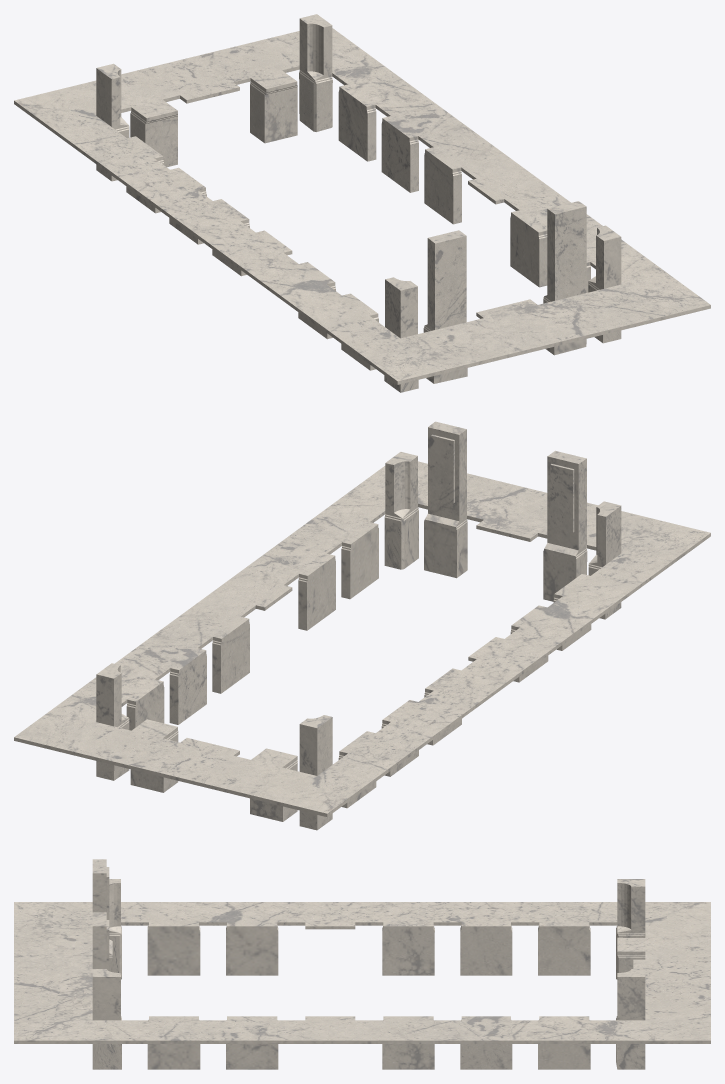
Rendered from floor3_fix_with_texture.fbx.
3 views of the same model, one above another, from view 1: azimuth 30°, elevation 25°; view 2: azimuth 150°, elevation 25°; view 3: azimuth 270°, elevation 25° (orthographic). The views are drawn at different scales.
Visible parts, largest first — view 1: floor2:main_hall:floor3_re; view 2: floor2:main_hall:floor3_re; view 3: floor2:main_hall:floor3_re.
Part boxes in pixels (bbox=[...]): floor2:main_hall:floor3_re: bbox=[14, 14, 710, 392]; floor2:main_hall:floor3_re: bbox=[14, 421, 710, 830]; floor2:main_hall:floor3_re: bbox=[14, 859, 710, 1069].
Size of the model in its own units: 24.24 by 10.41 by 51.43.
Materials: 1 (1 with a texture image).
